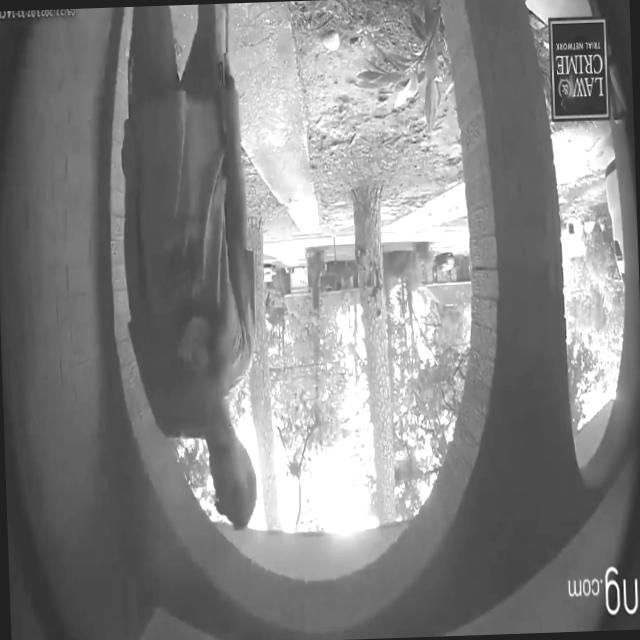weapon: (95, 1, 314, 582)
